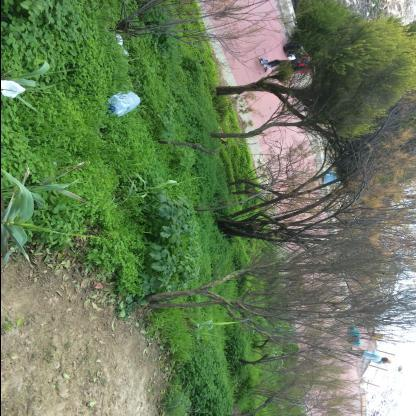plastik: (106, 92, 141, 118)
